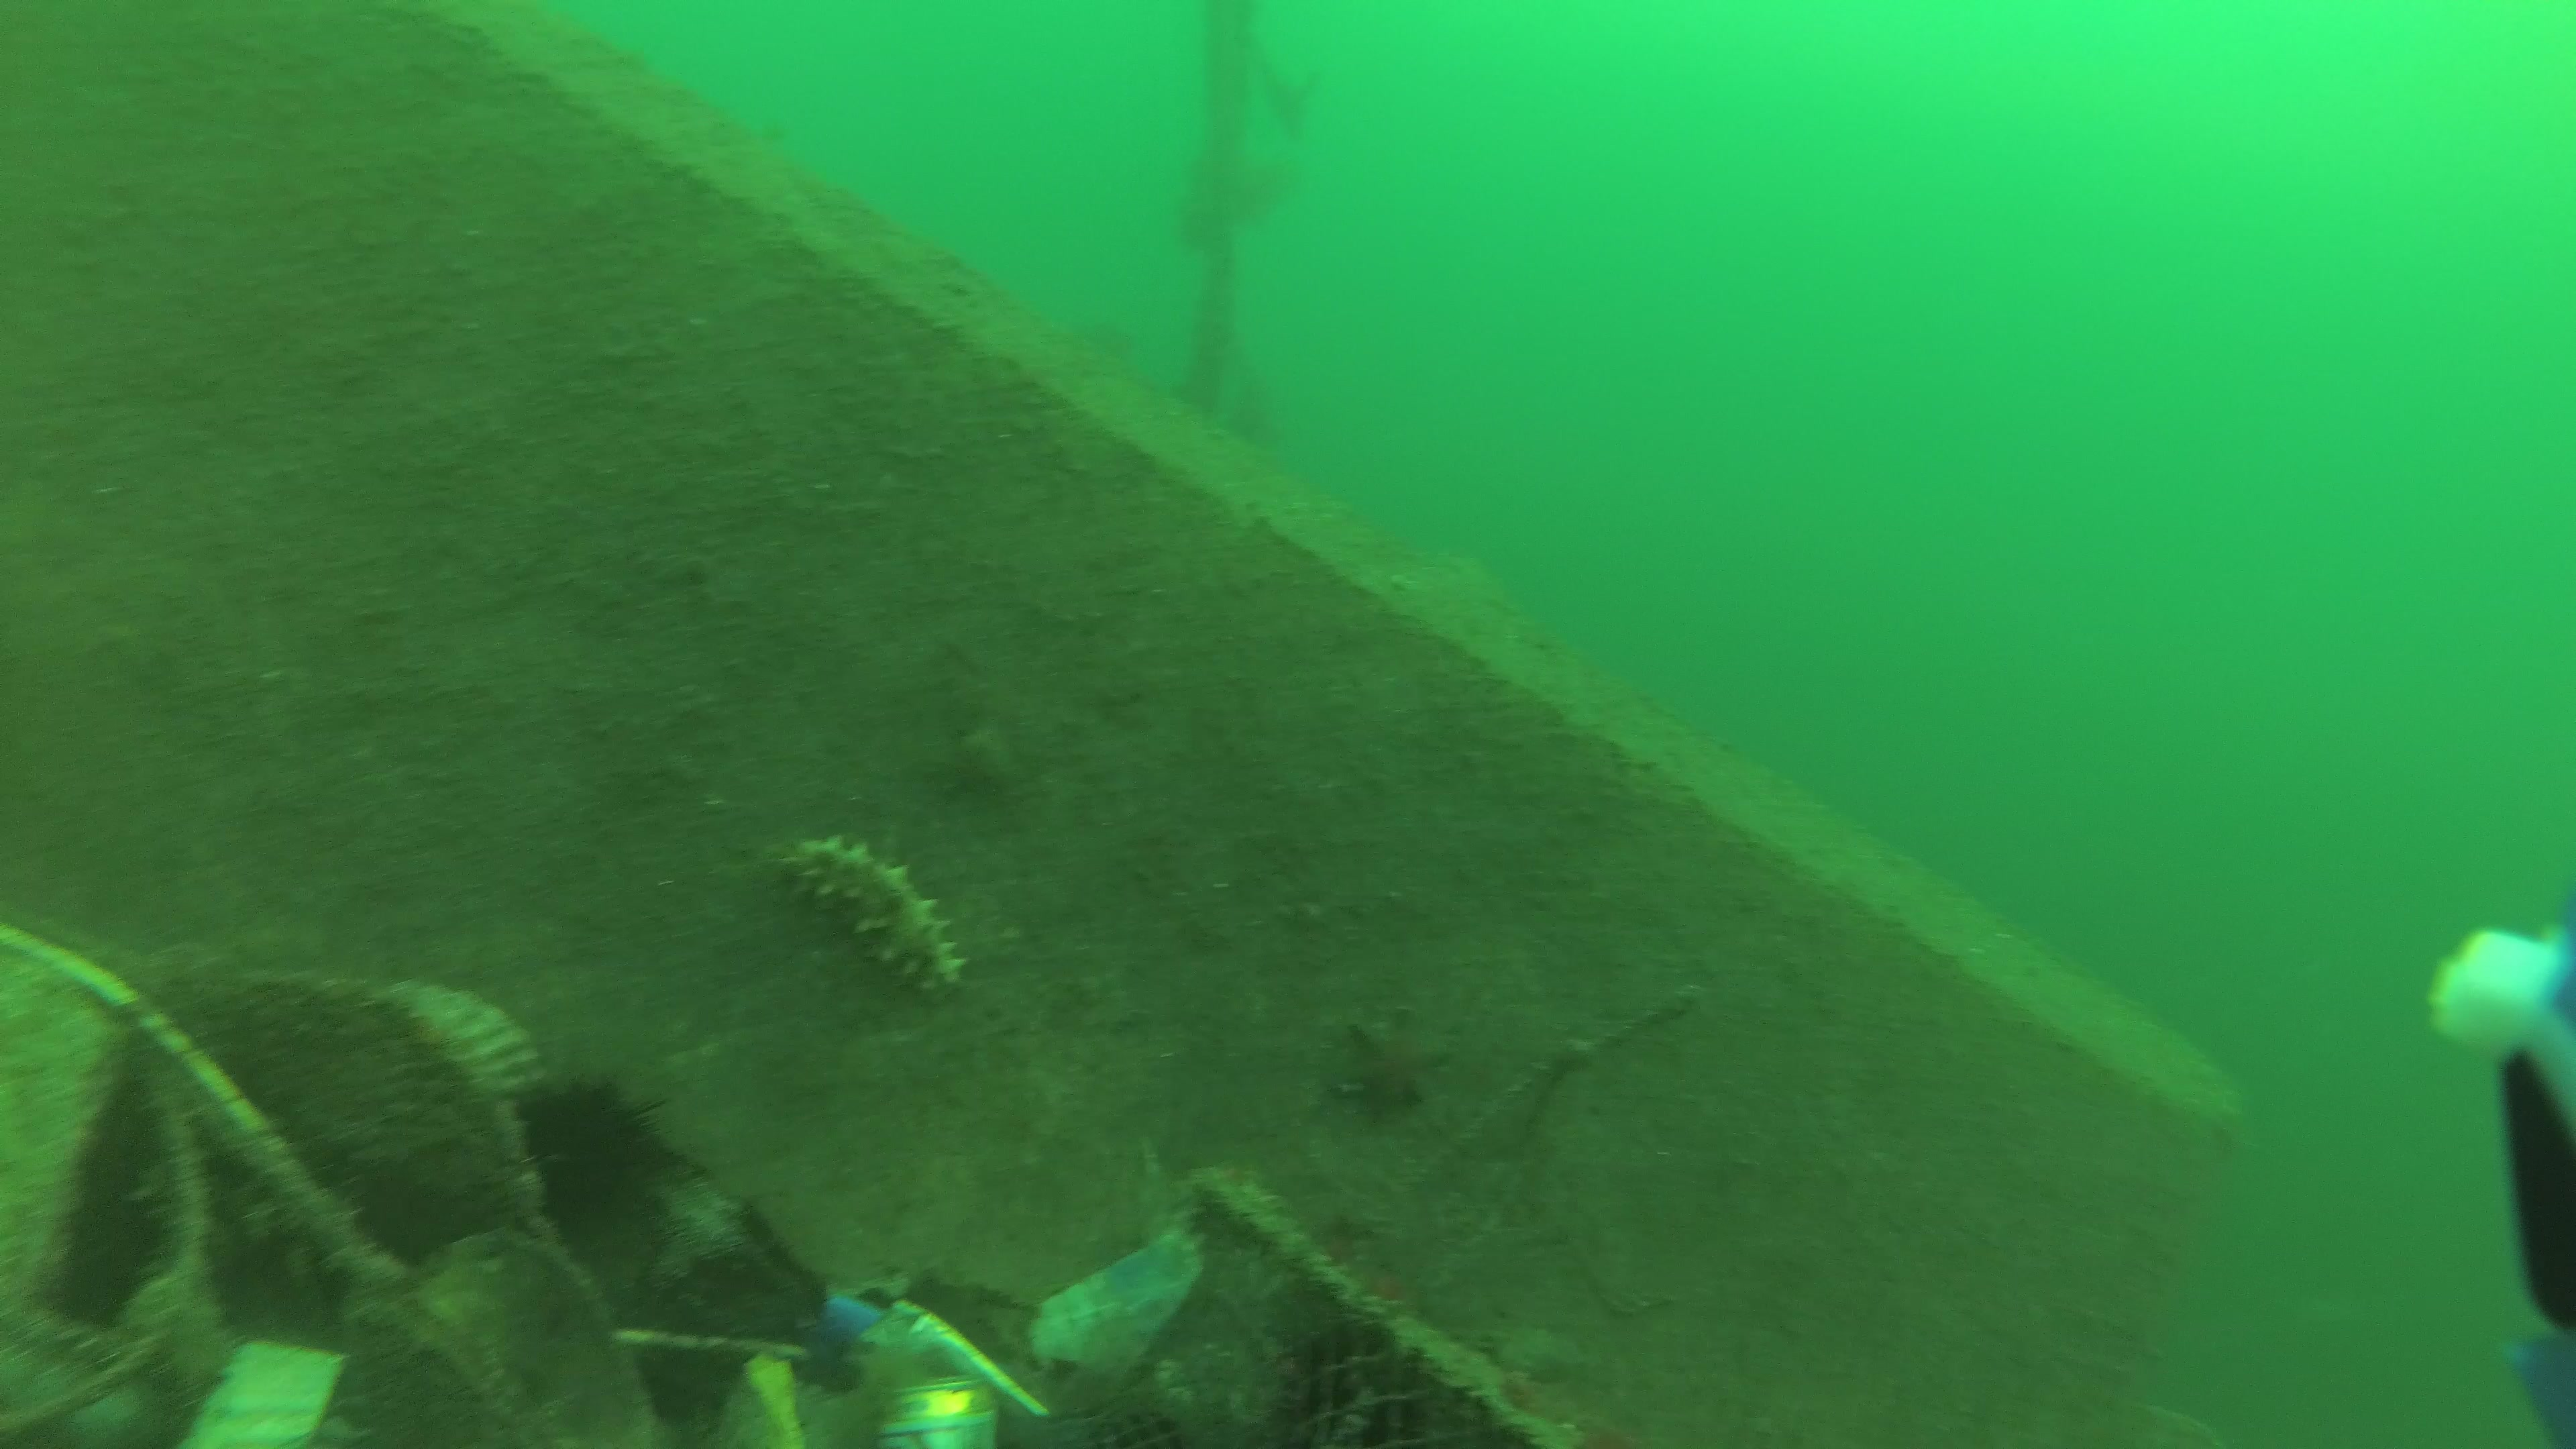echinus: (508, 1063, 692, 1235), (1265, 1318, 1435, 1449)
holothurian: (764, 830, 964, 996)
starfish: (1325, 1003, 1454, 1122)
